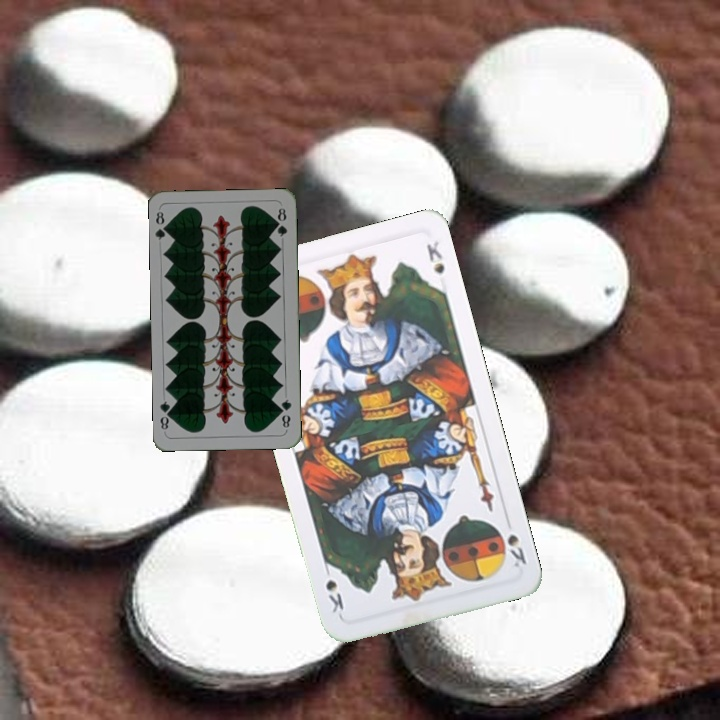G8: (152, 208, 172, 242), (276, 395, 294, 432)
SK: (503, 530, 529, 570)
